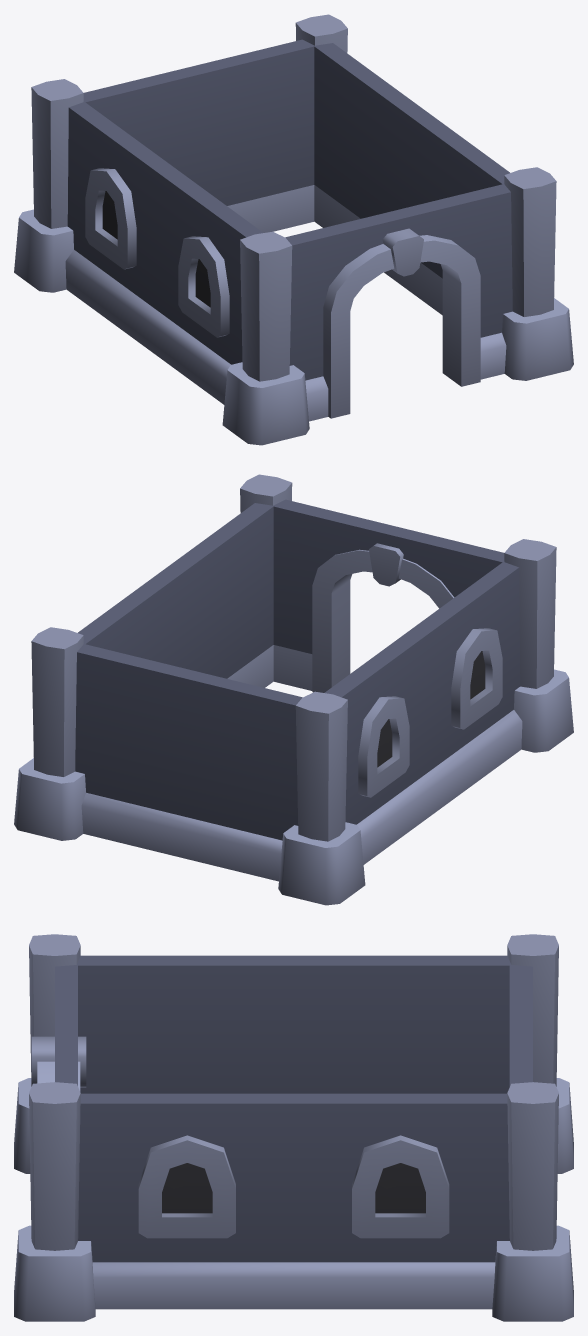
File: crypt-large.glb
3 views of the same model, one above another, from view 1: azimuth 30°, elevation 25°; view 2: azimuth 150°, elevation 25°; view 3: azimuth 270°, elevation 25° (orthographic). The views are drawn at different scales.
Visible parts, largest first — view 1: crypt-large; view 2: crypt-large; view 3: crypt-large.
Boxes of the visible parts, x1,y1,x2,y2 form: crypt-large: (14, 14, 573, 445); crypt-large: (14, 474, 573, 905); crypt-large: (14, 934, 573, 1321).
Size of the model in its own units: 1.85 by 1 by 2.4.
